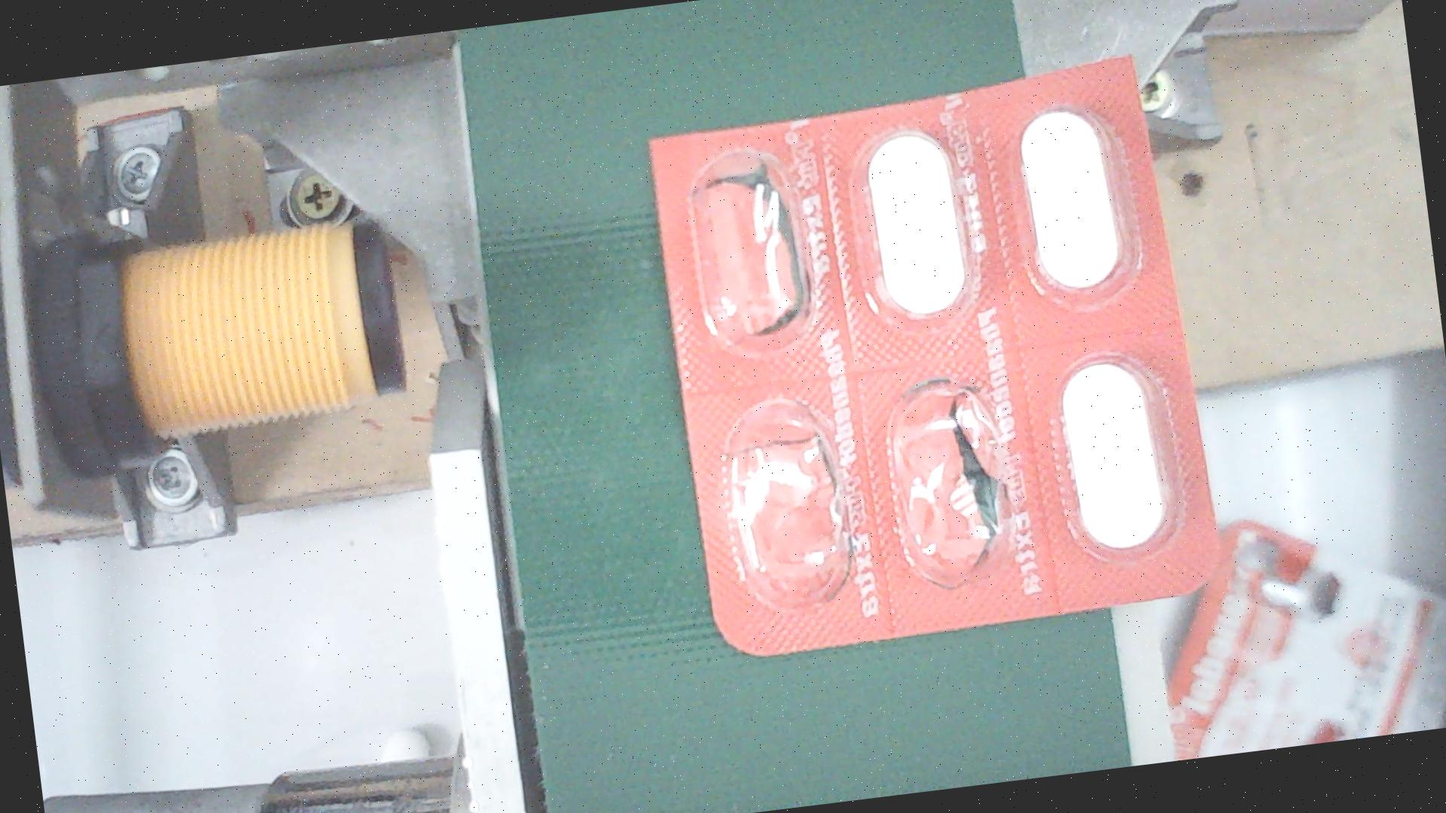Empty: (712, 390, 861, 618), (676, 139, 825, 367), (881, 367, 1029, 596)
Full: (1038, 344, 1187, 573), (996, 86, 1144, 315), (843, 111, 991, 339)
